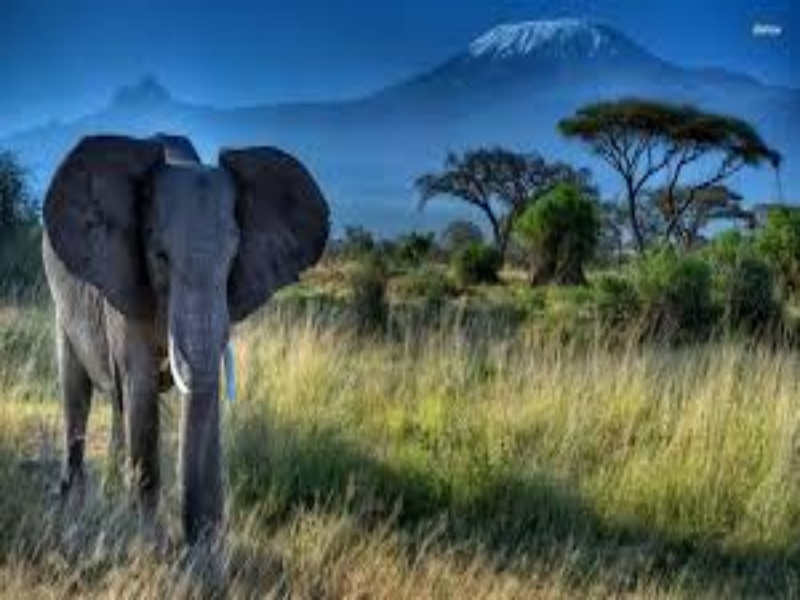elephant: (37, 130, 341, 547)
